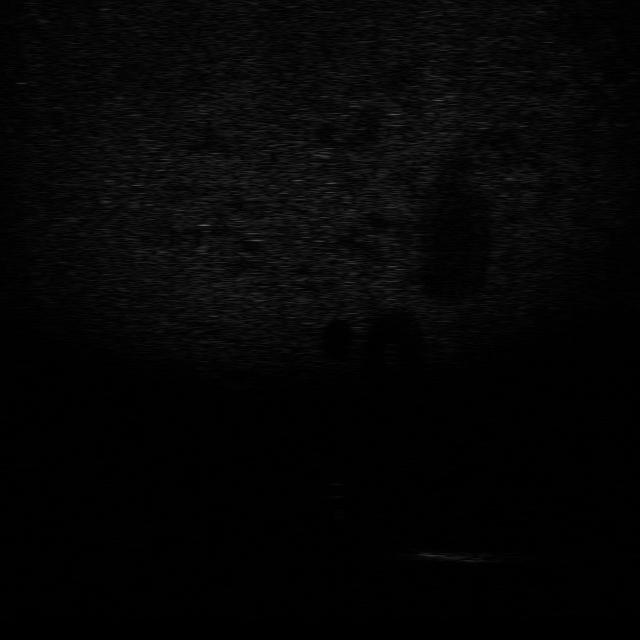ball: (319, 480, 356, 500)
metal bucket: (413, 546, 508, 566)
tyre: (362, 512, 432, 539)
